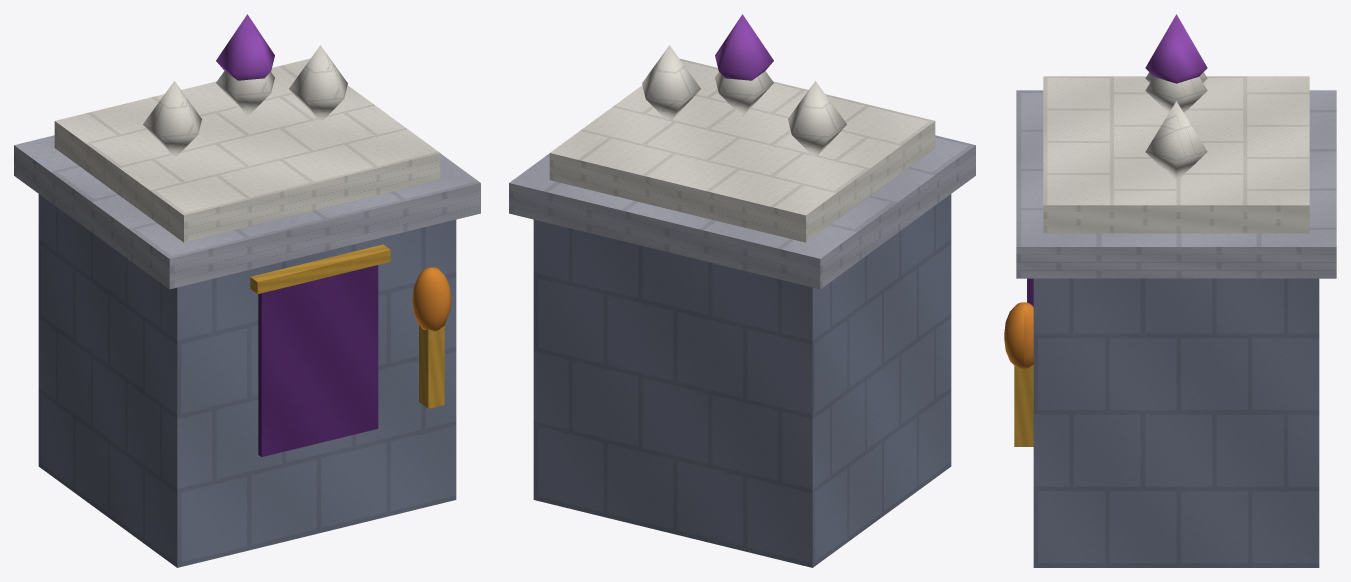
Rendered from high_crown_tower.obj.
The picture shows the model from 3 angles, left to right: view 1: azimuth 30°, elevation 25°; view 2: azimuth 150°, elevation 25°; view 3: azimuth 270°, elevation 25°; orthographic projection. The views are drawn at different scales.
Visible parts, largest first — view 1: high_crown_tower; view 2: high_crown_tower; view 3: high_crown_tower.
Part boxes in pixels (x1=…): high_crown_tower: x1=14, y1=14, x2=480, y2=567; high_crown_tower: x1=509, y1=14, x2=975, y2=567; high_crown_tower: x1=1004, y1=14, x2=1336, y2=567.
Size of the model in its own units: 3.84 by 5.53 by 3.44.
7 materials, 7 textured.
